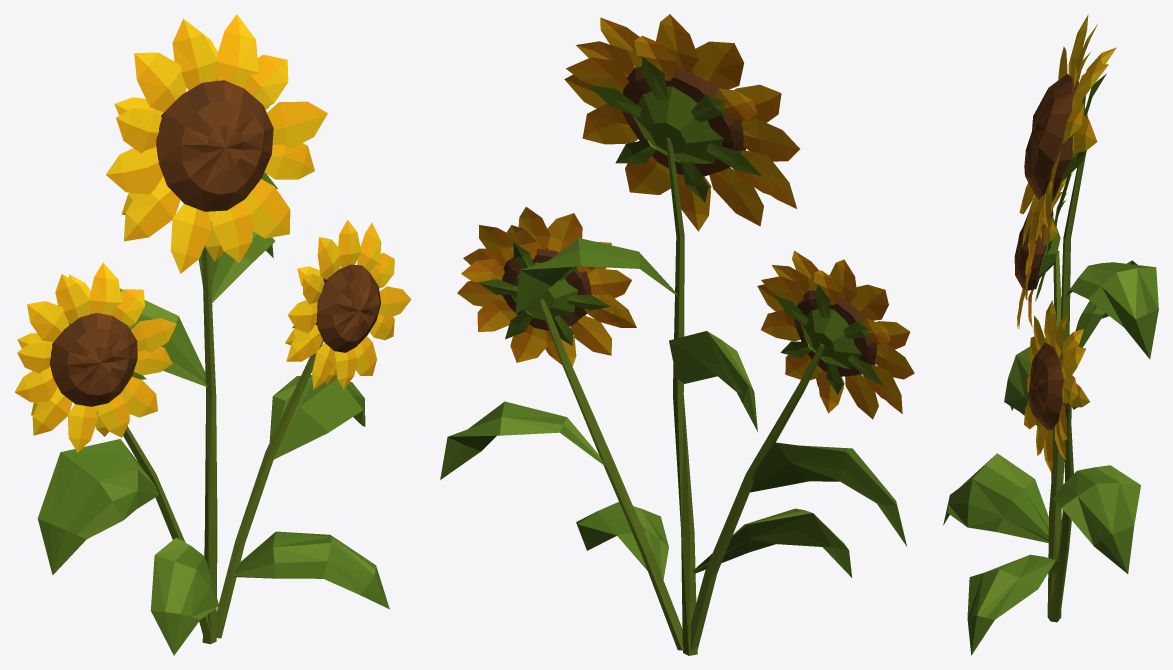
Rendered from Sunflower.glb.
3 renders of one model, left to right at view 1: azimuth 30°, elevation 25°; view 2: azimuth 150°, elevation 25°; view 3: azimuth 270°, elevation 25°, orthographic. The views are drawn at different scales.
Parts seen in each view (by area): view 1: Sunflower; view 2: Sunflower; view 3: Sunflower.
Boxes of the visible parts, x1=… form: Sunflower: x1=15, y1=14, x2=411, y2=655; Sunflower: x1=440, y1=14, x2=914, y2=655; Sunflower: x1=943, y1=14, x2=1158, y2=655.
Bounding box in the file's own units: 1.18 × 1.67 × 0.5505.
